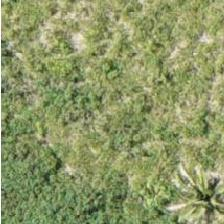coconut_tree: (155, 164, 223, 223)
